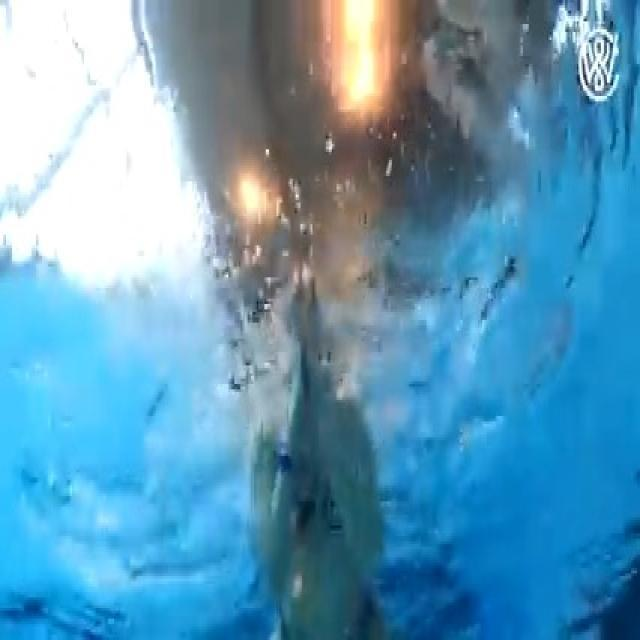Swimming: (242, 283, 390, 640)
